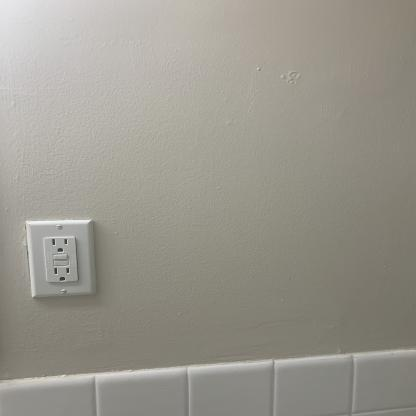OUTLET: (26, 220, 98, 298)
